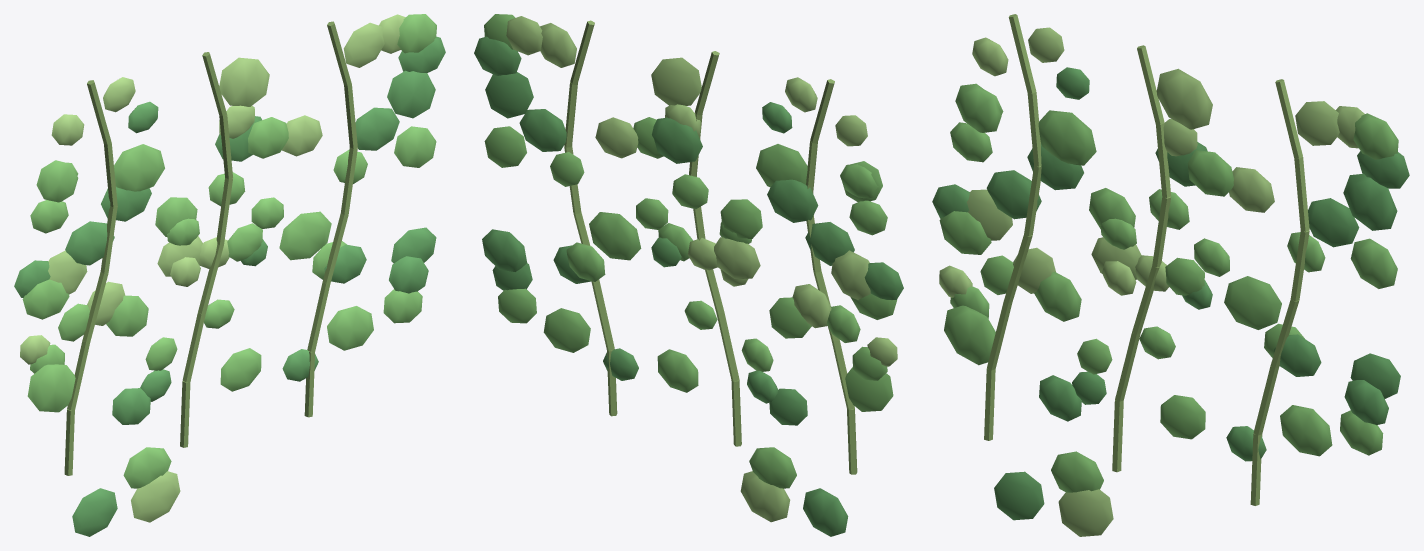
File: ivy_wall.glb
The picture shows the model from 3 angles, left to right: view 1: azimuth 30°, elevation 25°; view 2: azimuth 150°, elevation 25°; view 3: azimuth 330°, elevation 25°; orthographic projection. The views are drawn at different scales.
Visible parts, largest first — view 1: IvyWall; view 2: IvyWall; view 3: IvyWall.
Boxes of the visible parts, box(x1,y1,x2,y2) form: IvyWall: box(14, 14, 445, 536); IvyWall: box(474, 14, 903, 536); IvyWall: box(932, 14, 1409, 536).
Bounding box in the file's own units: 0.9332 × 0.9441 × 0.0239.
